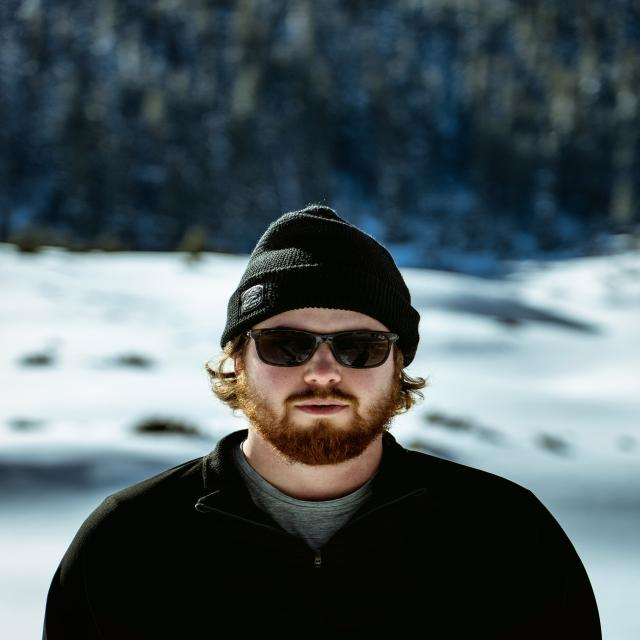adult: (45, 193, 608, 640)
